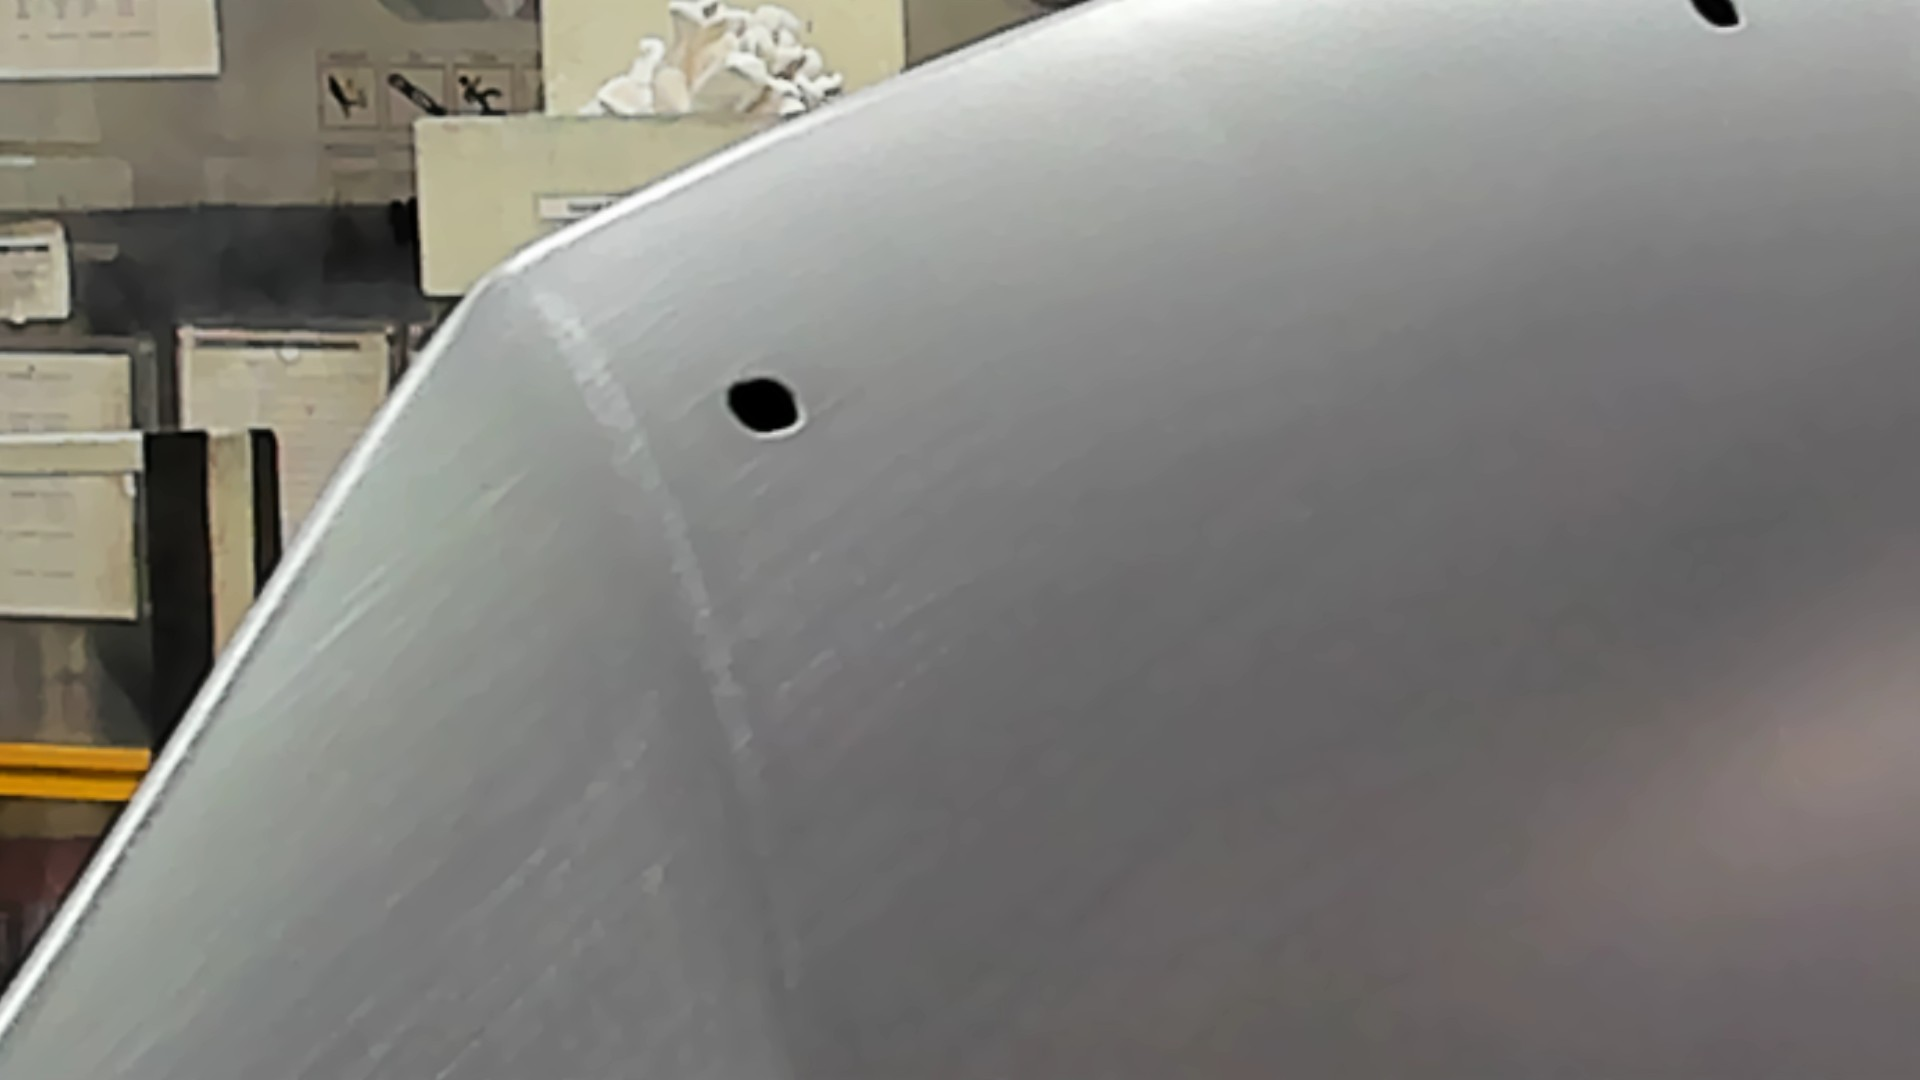amorfo: (719, 375, 815, 444), (1675, 1, 1754, 37)
capo: (975, 69, 1920, 1080)
